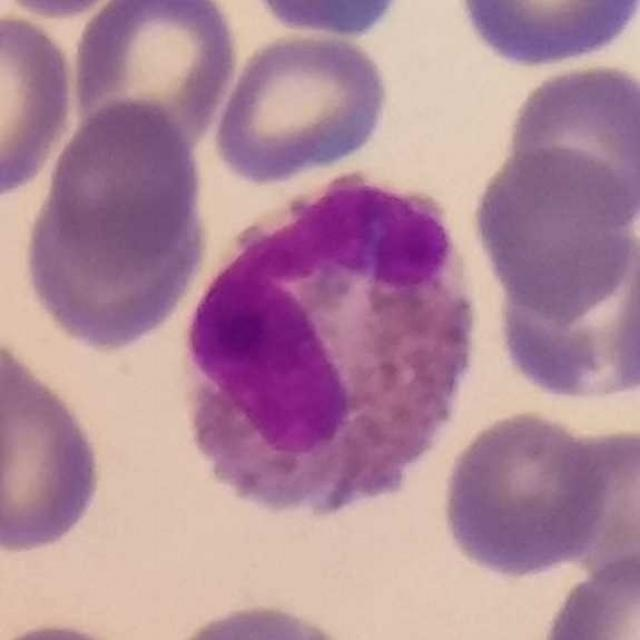Eosinophil: (174, 156, 498, 528)
RBC: (16, 174, 212, 355), (436, 406, 617, 583), (467, 143, 640, 320), (37, 95, 209, 272), (485, 219, 640, 410), (209, 27, 394, 187), (66, 0, 242, 151), (0, 332, 109, 562), (501, 59, 640, 232), (547, 418, 640, 594), (0, 9, 78, 202), (451, 0, 640, 71), (534, 546, 639, 640), (157, 597, 365, 640), (236, 0, 424, 41), (609, 218, 640, 408), (0, 615, 149, 640), (0, 0, 140, 20)
